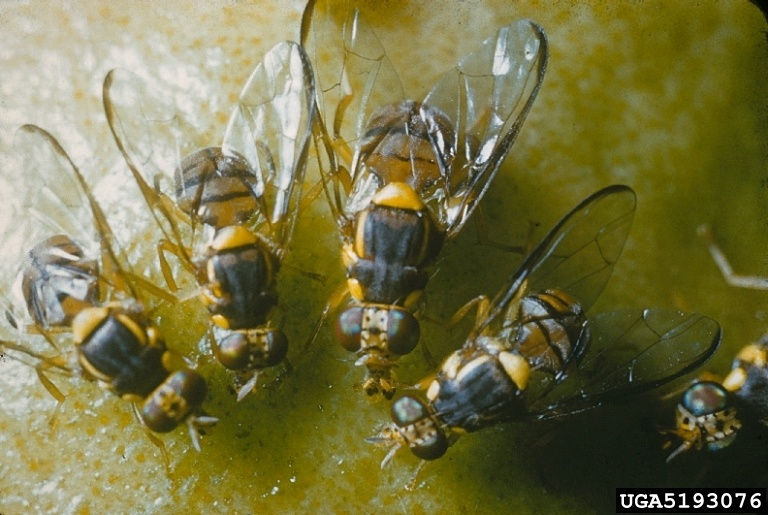Fruit fly: (284, 22, 529, 445), (371, 185, 704, 484), (142, 54, 303, 418), (11, 179, 210, 446)
